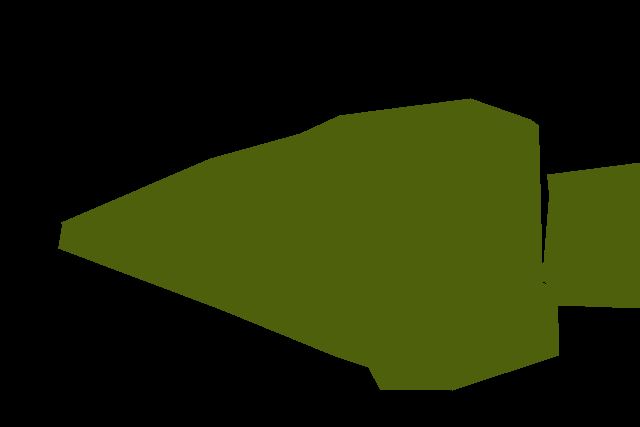Train: (58, 98, 558, 391), (542, 162, 640, 309)
